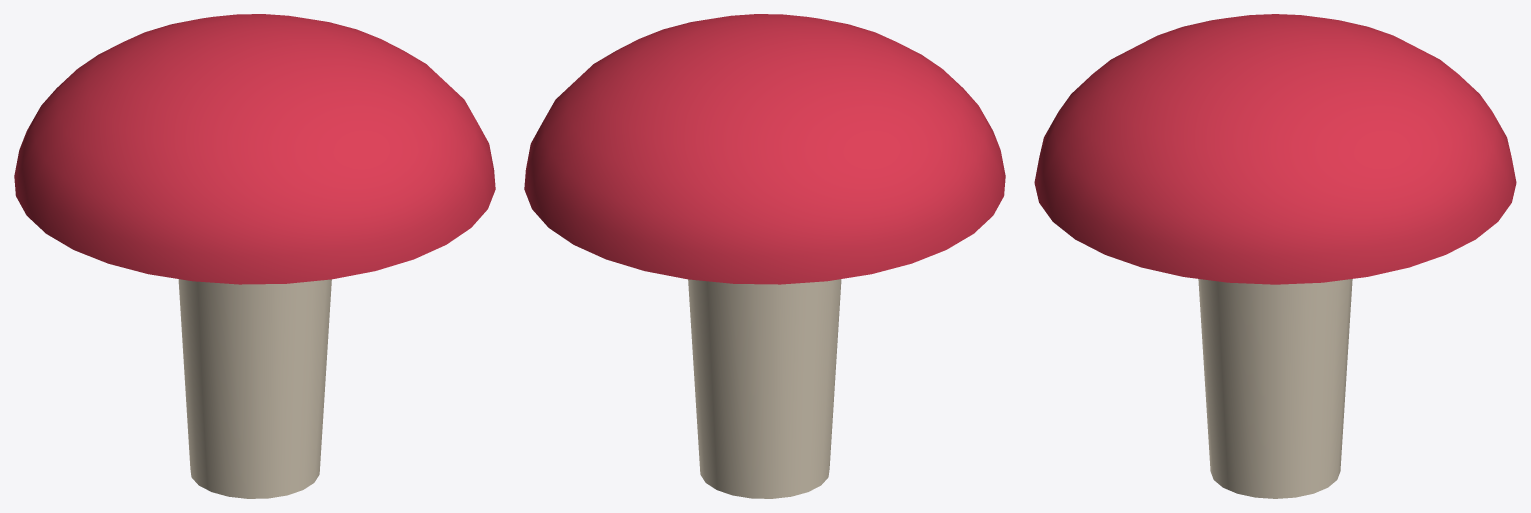
Rendered from for_mushroom_giant.glb.
3 renders of one model, left to right at view 1: azimuth 30°, elevation 25°; view 2: azimuth 150°, elevation 25°; view 3: azimuth 270°, elevation 25°, orthographic.
Visible parts, largest first — view 1: for_mushroom_giant; view 2: for_mushroom_giant; view 3: for_mushroom_giant.
Boxes of the visible parts, x1,y1,x2,y2 form: for_mushroom_giant: [14, 14, 495, 498]; for_mushroom_giant: [524, 14, 1005, 498]; for_mushroom_giant: [1034, 14, 1516, 498].
Size of the model in its own units: 1.04 by 1.01 by 1.04.
